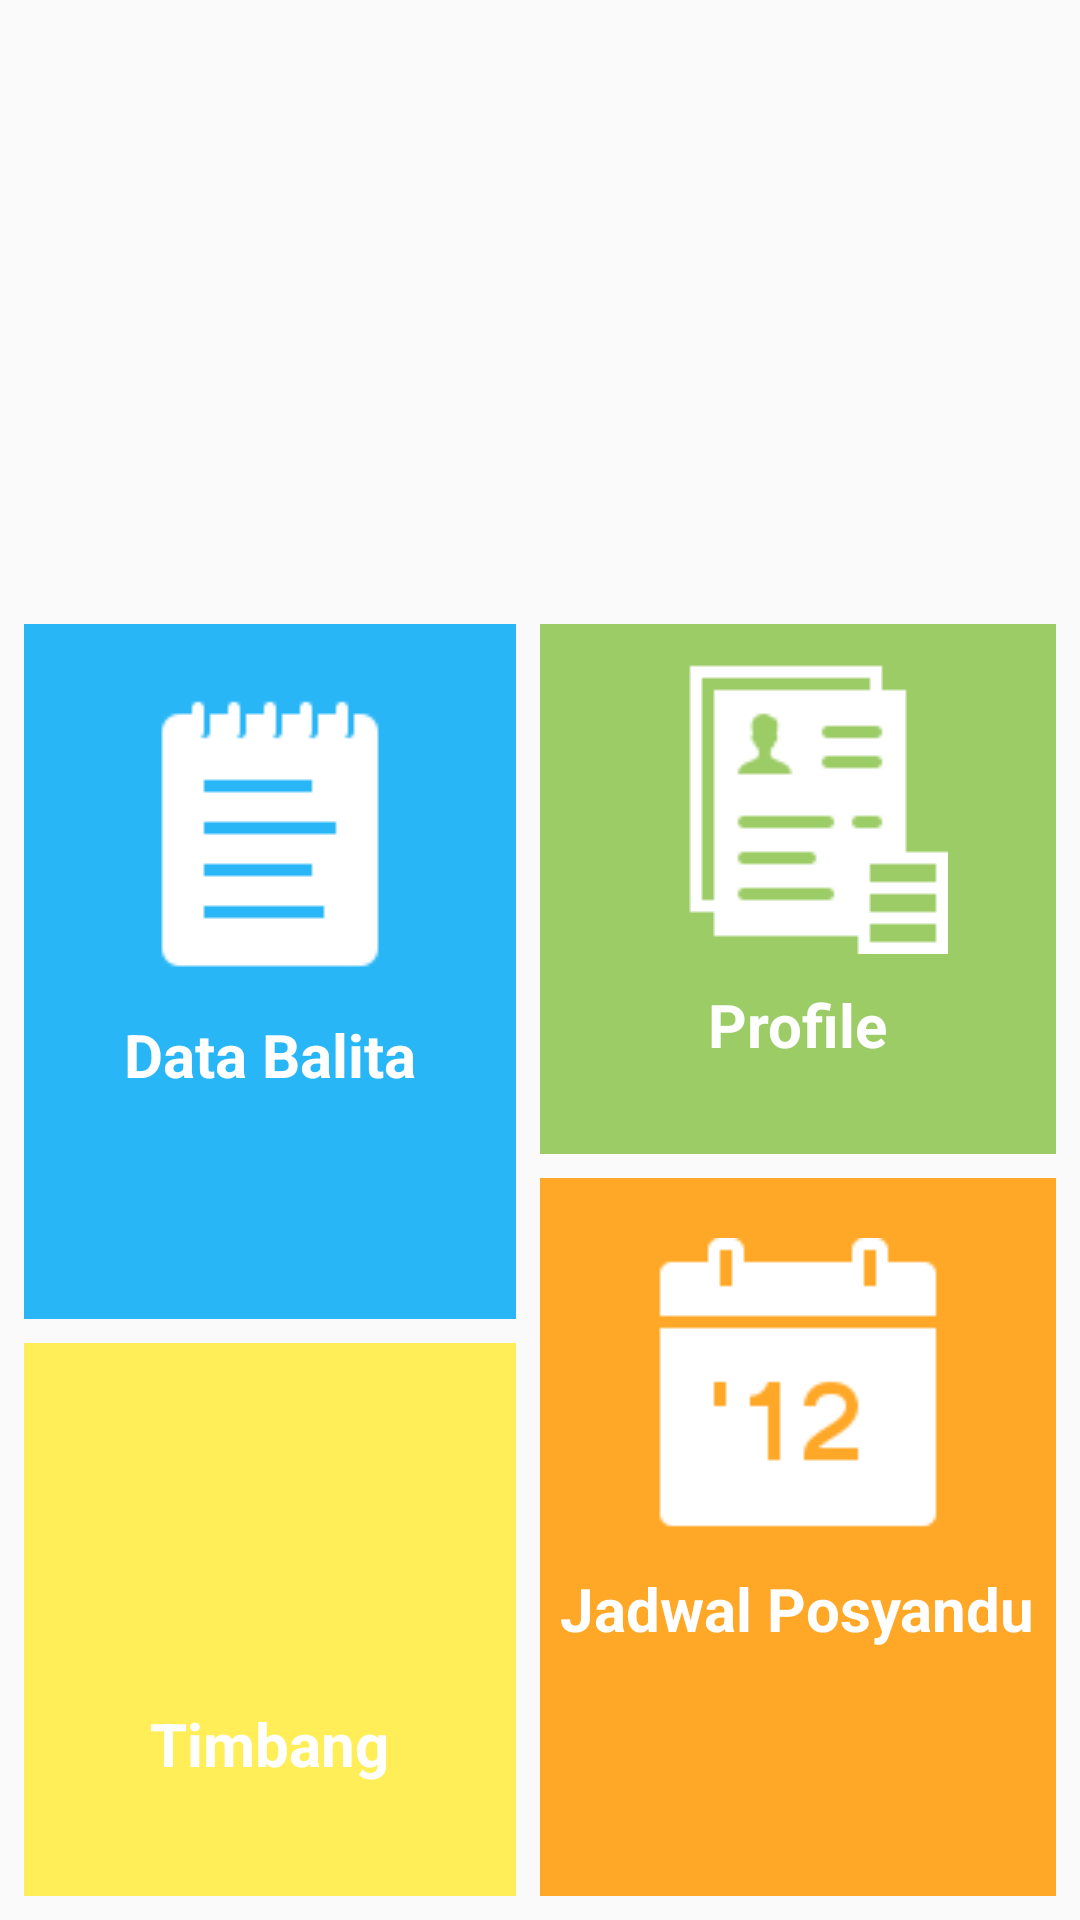

Where to tap for icons on this 1080*1920 app screen, as (x,y):
calender: (798,1382)
